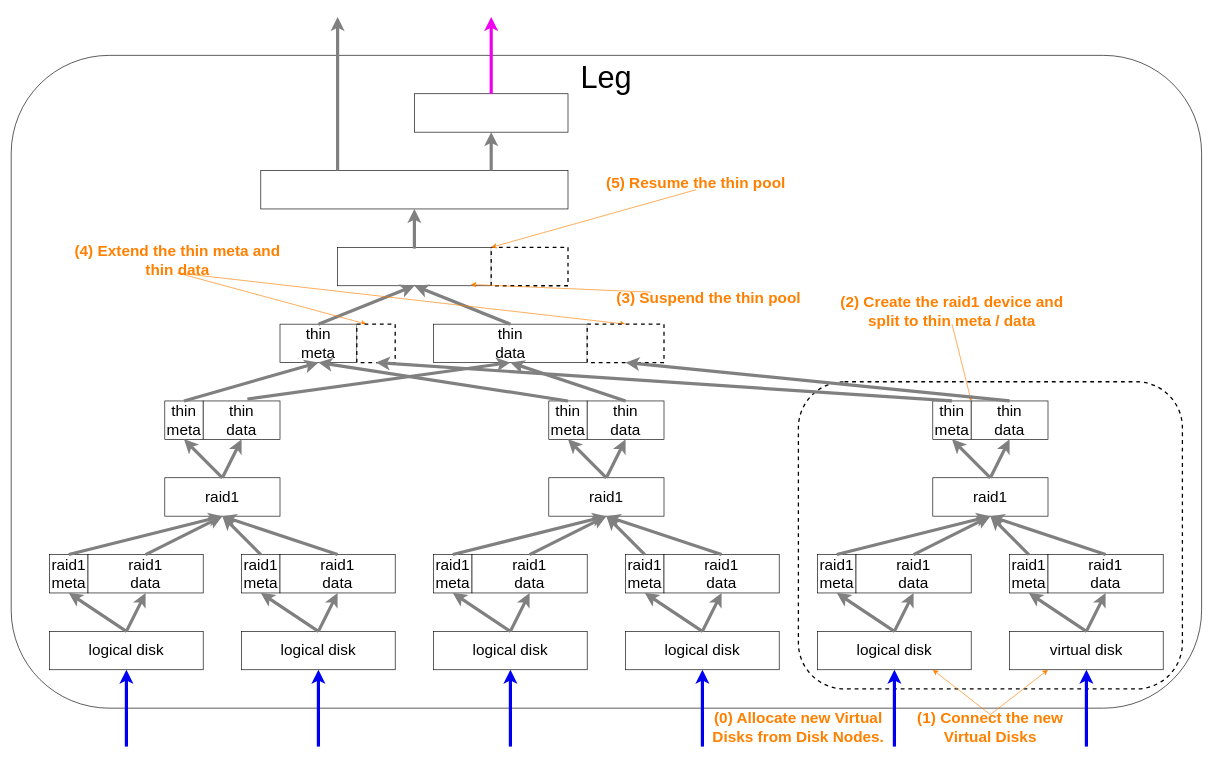
Some shapes in this 1213 by 764 pixel diagram are drawn without their labels. The shapes that lost their labels are listed below. From the top down, each one's centre as x and y in pixels, then its label:
At point 491,112: "nvmeof target".
At point 414,189: "thin dev".
At point 414,266: "thin pool".
